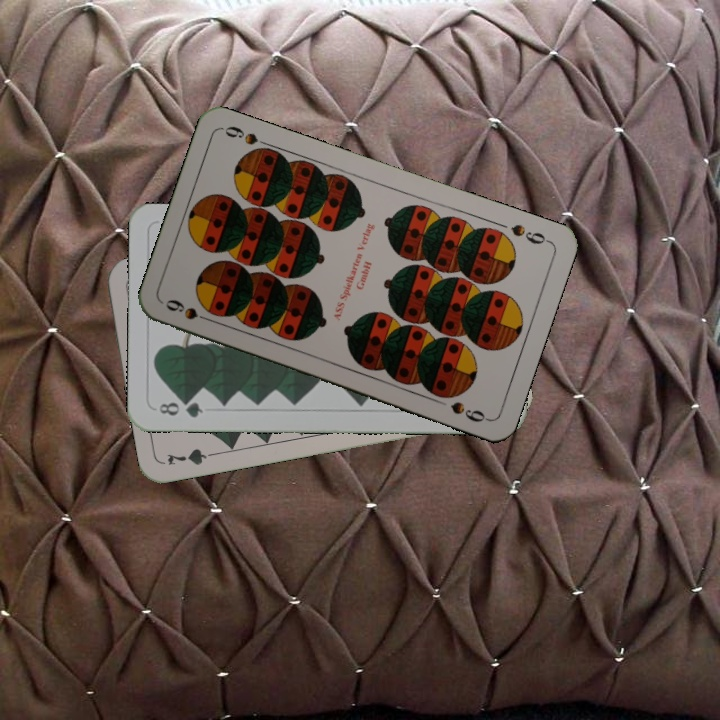G7: (163, 444, 222, 468)
G8: (155, 396, 206, 421)
S9: (161, 295, 218, 326), (507, 220, 553, 247)
